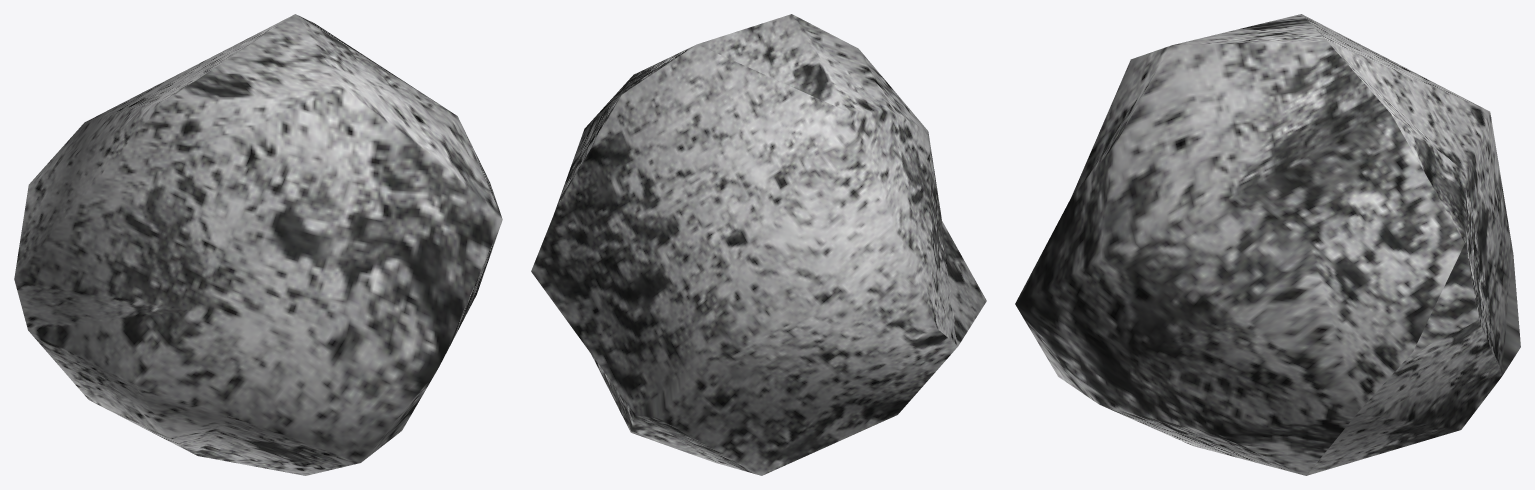
The model's file is rock.dae.
The picture shows the model from 3 angles, left to right: view 1: azimuth 30°, elevation 25°; view 2: azimuth 150°, elevation 25°; view 3: azimuth 270°, elevation 25°; orthographic projection. The views are drawn at different scales.
Parts seen in each view (by area): view 1: FallingRock03; view 2: FallingRock03; view 3: FallingRock03.
Part boxes in pixels (bbox=[...]): FallingRock03: bbox=[14, 14, 502, 475]; FallingRock03: bbox=[531, 14, 986, 475]; FallingRock03: bbox=[1015, 14, 1520, 475].
Bounding box in the file's own units: 64.9 × 62.64 × 59.01.
1 material, 1 textured.
